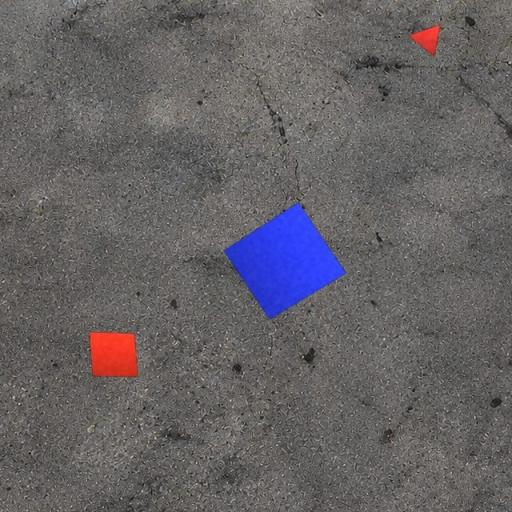BLUE_SQUARE: (223, 202, 347, 320)
RED_SQUARE: (89, 331, 138, 378)
